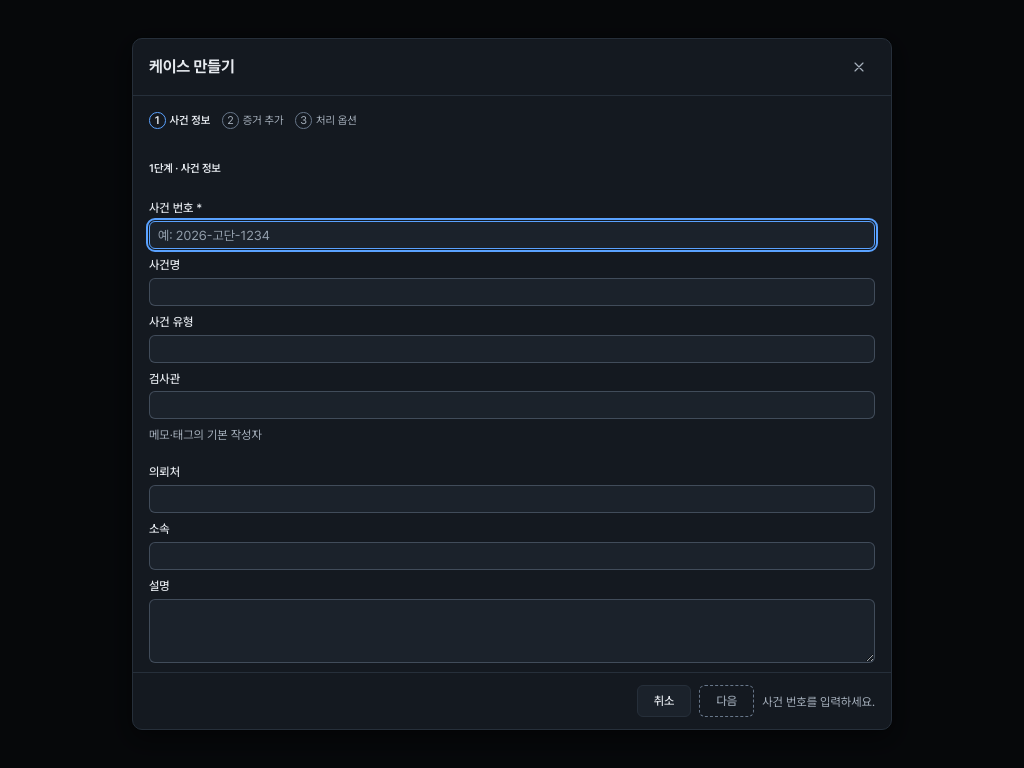
Scenario: CaseWizard (Q-X1) › blocks 실행 while another run is active
The image size is (1024, 768).
Type "1" into the field labelled "사건 번호". click: (512, 235)
box: [149,221,875,249]
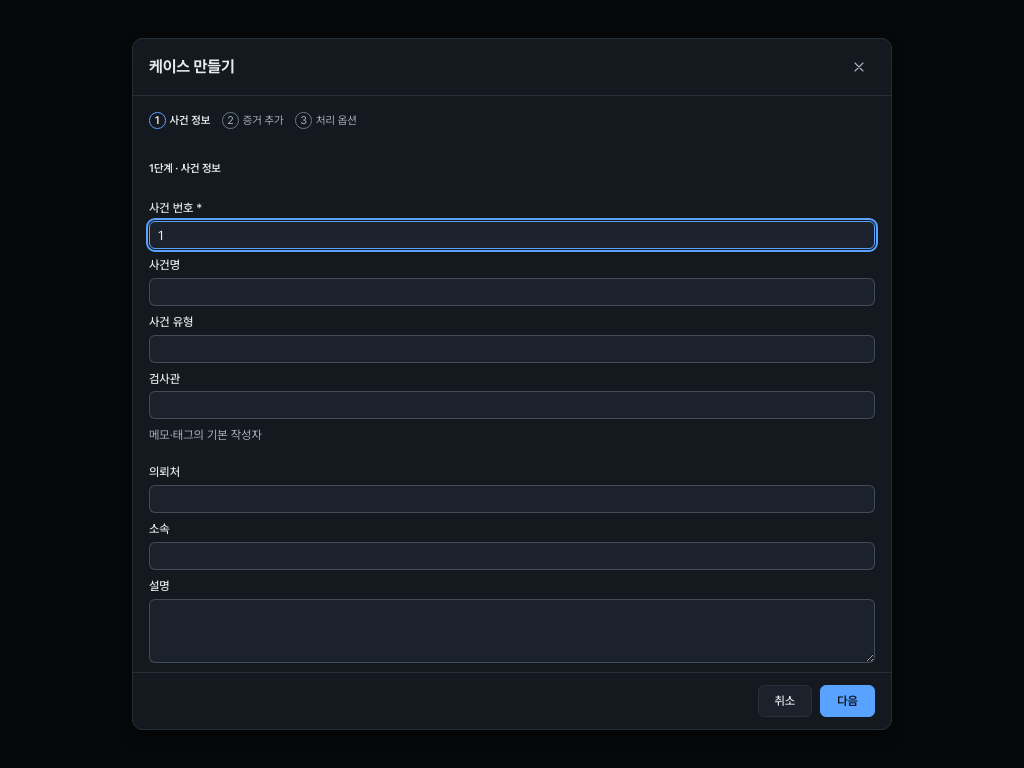
Click the button with test id "wizard-next". click: click(848, 701)
box: [820,685,875,717]
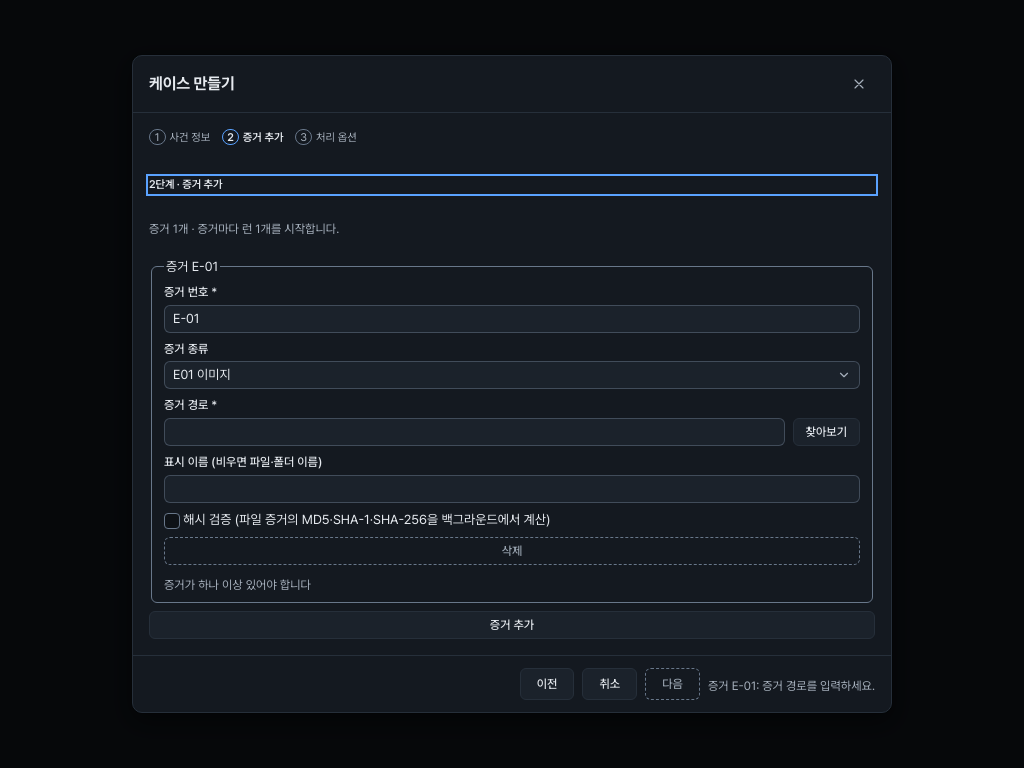
Result: the element with test id "wizard-step-evidence" is shown at [149,217,875,639]
Type "D:\\x.E01" into the field labelled "증거 경로". click: (474, 432)
box: [164,418,784,446]
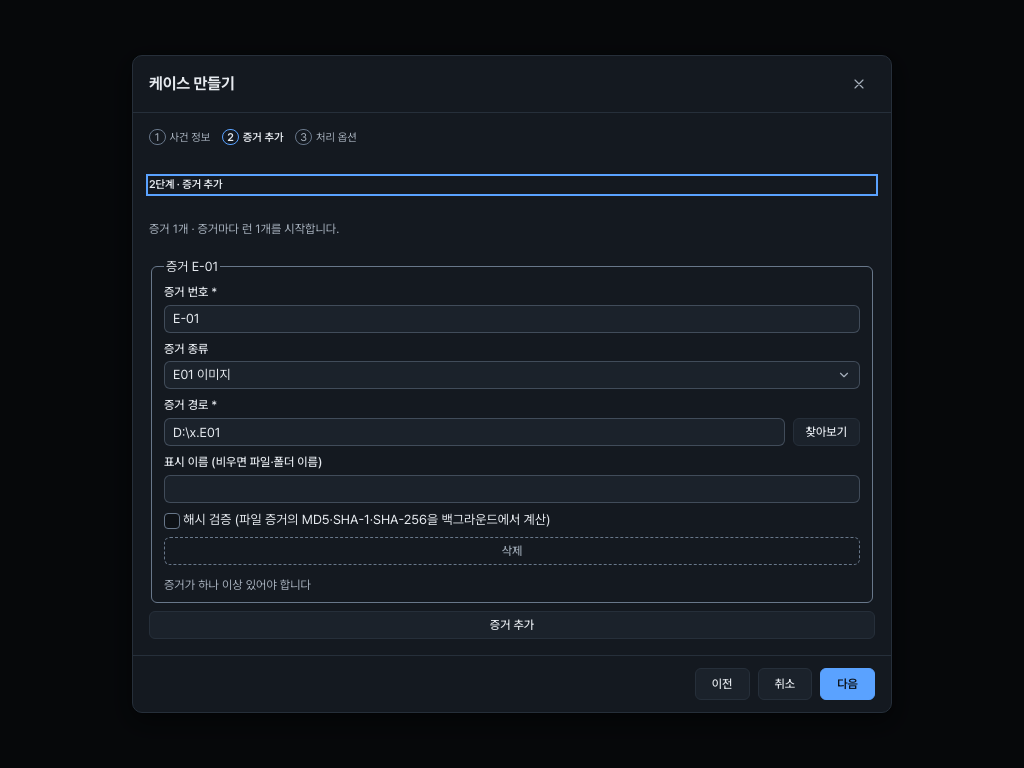
Click the button with test id "wizard-next". click: click(848, 684)
box: [820,668,875,700]
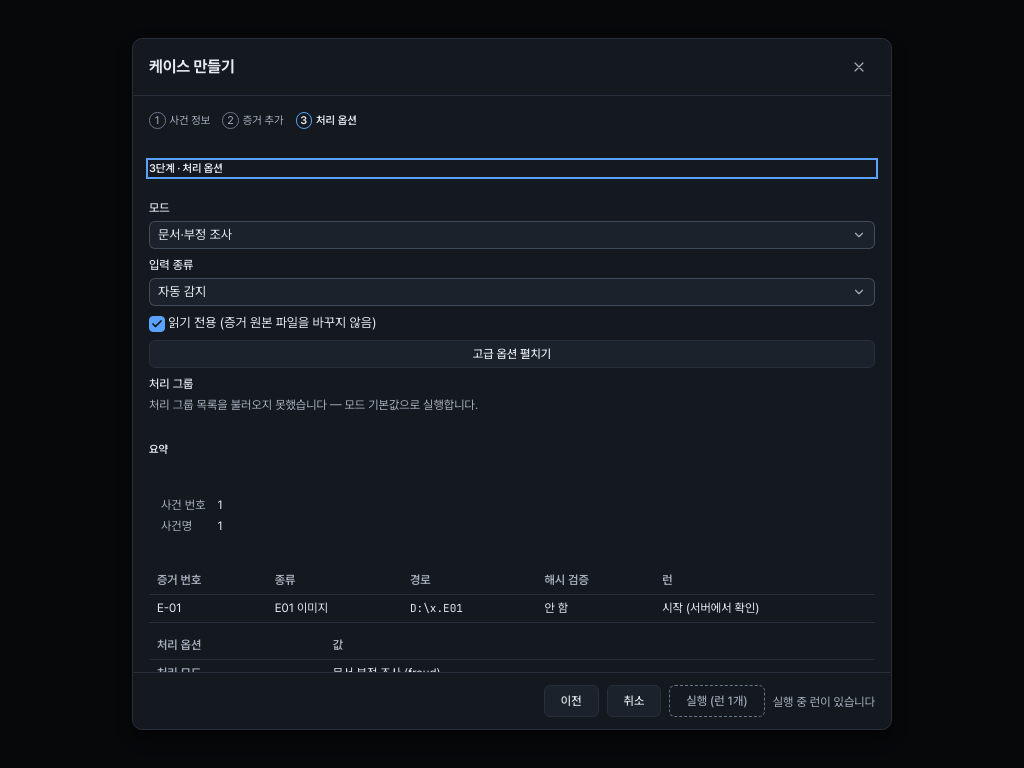
Result: the text "실행 중 런이 있습니다" is shown at [773,694,875,711]
